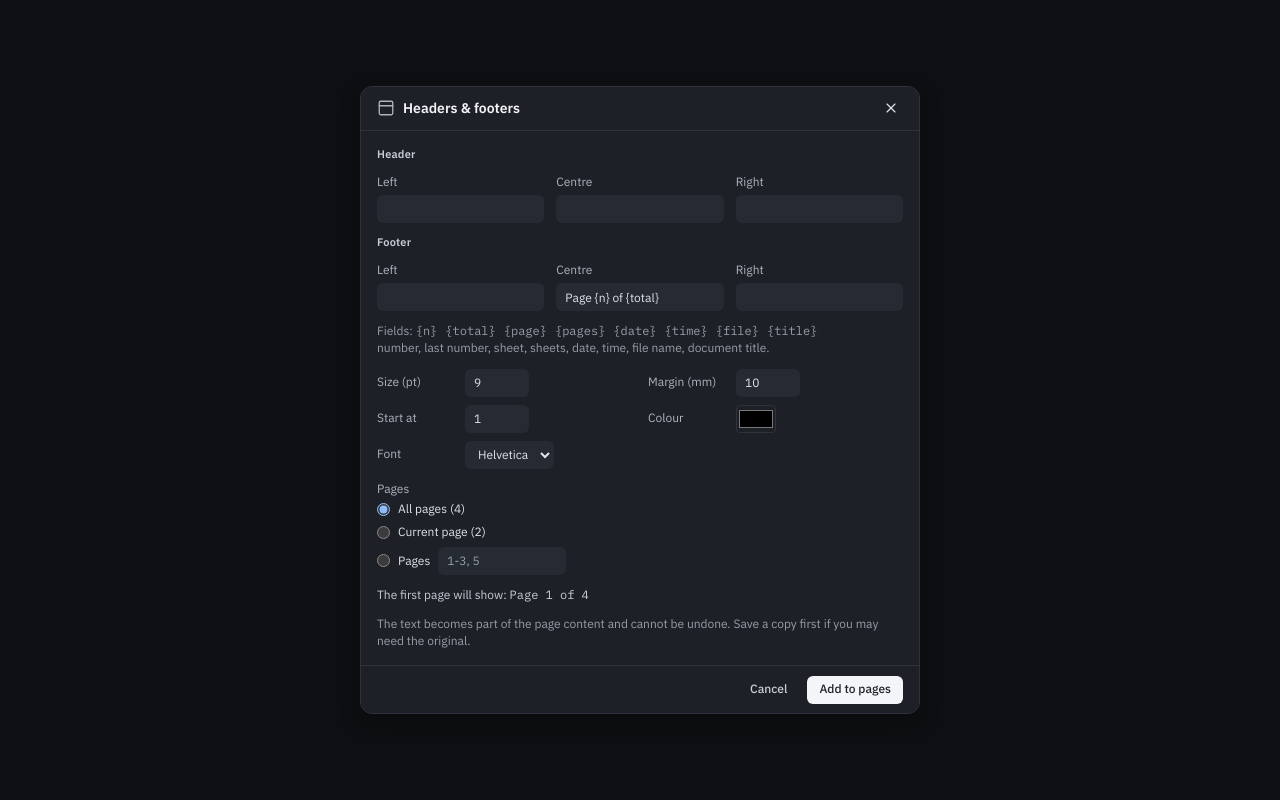
Test: Diálogos de Headers & Footers, Replace Pages y Split Document (ADR-0114) › Headers & Footers: una lista de páginas no válida o un tamaño fuera de rango lo explican
Step 1. Click the radio button with test id "hf-scope-range" → [384, 561], box [377,554,390,568]
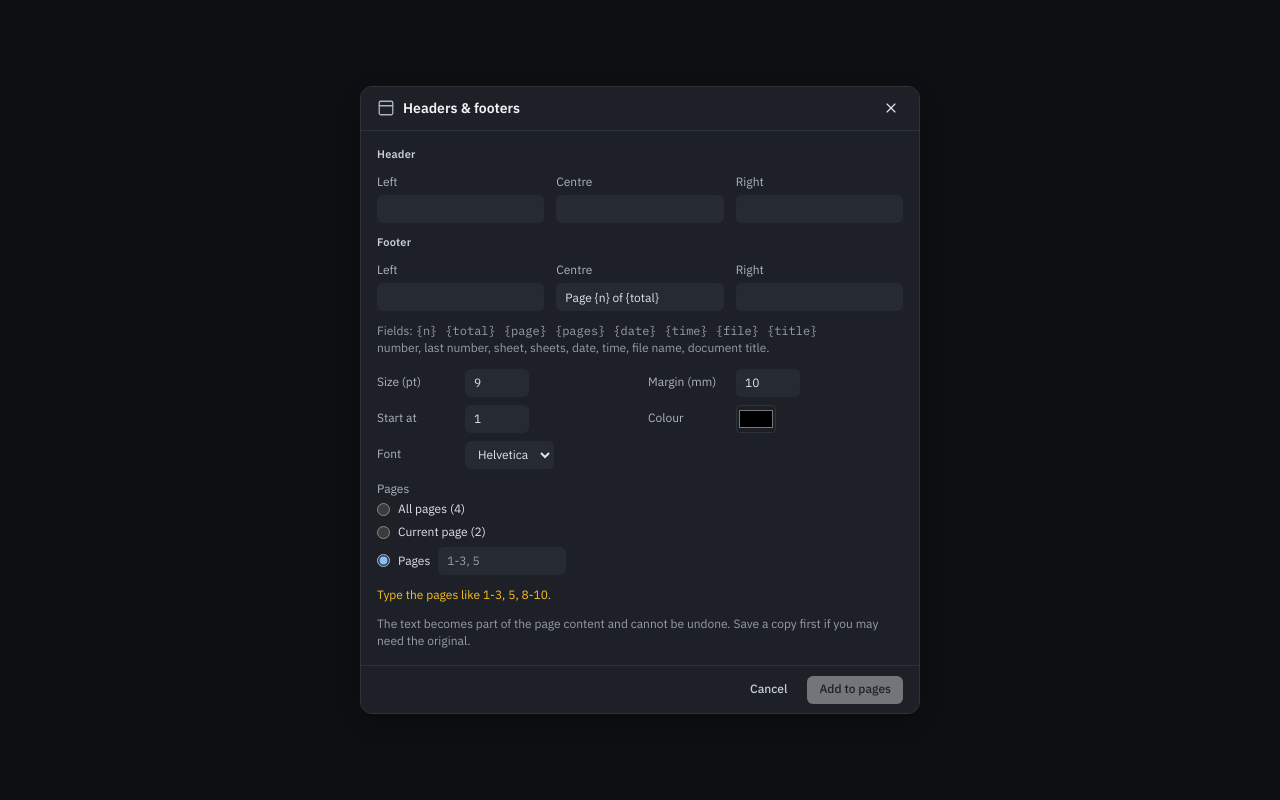
Step 2. Type "7-9" into the field with test id "hf-range" → [502, 561], box [438,547,566,575]
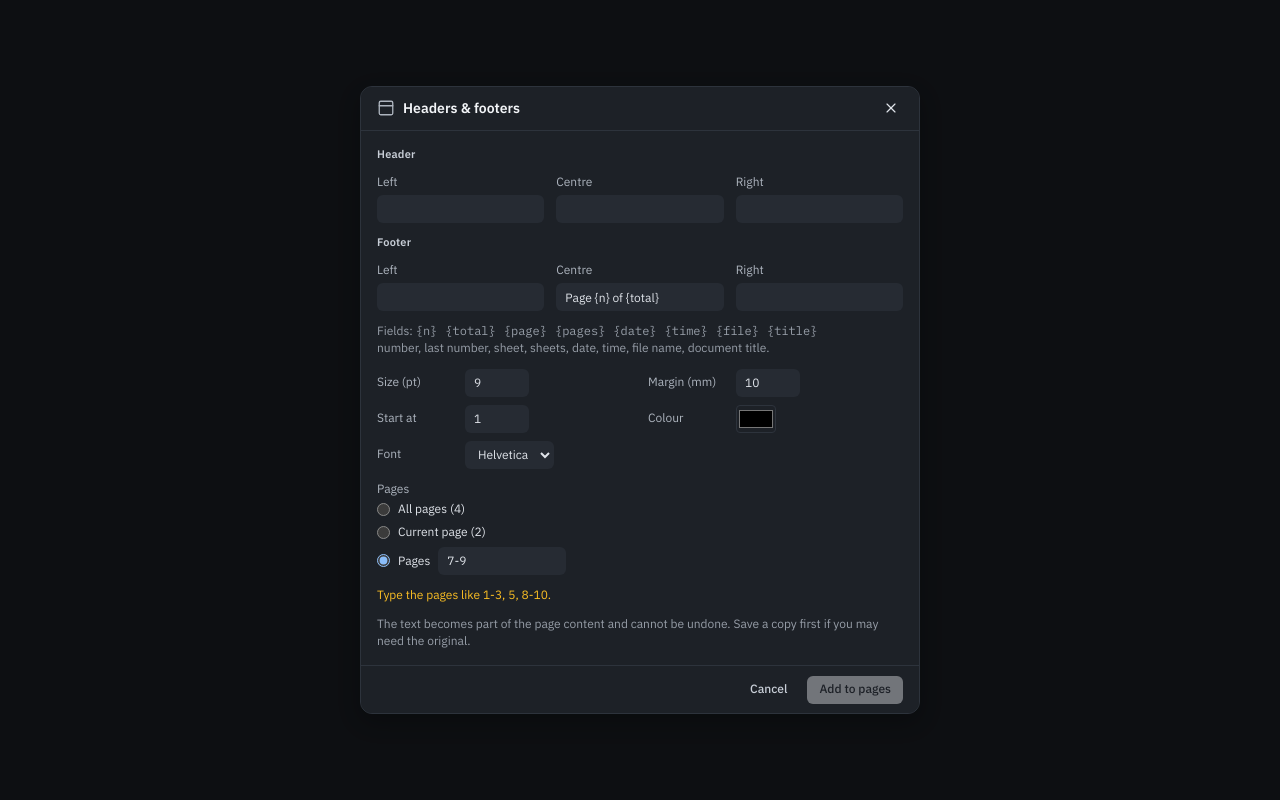
Expected: the text with test id "hf-problem" reads "Type the pages like 1-3, 5, 8-10.", [377,587,551,602]
Step 3. Replace the text in the field with test id "hf-range" with "1" → [502, 561], box [438,547,566,575]
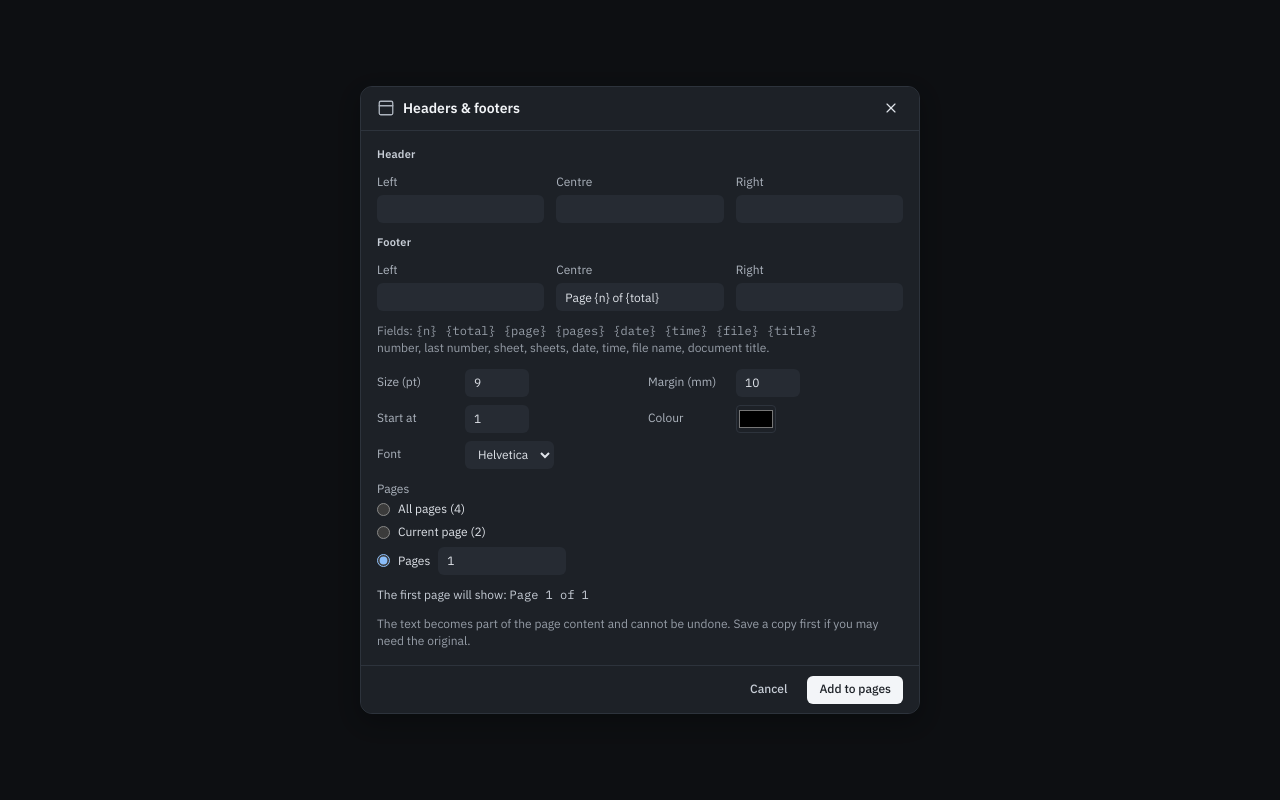
Step 4. Replace the text in the number field with test id "hf-size" with "90" → [497, 383], box [465,369,529,397]
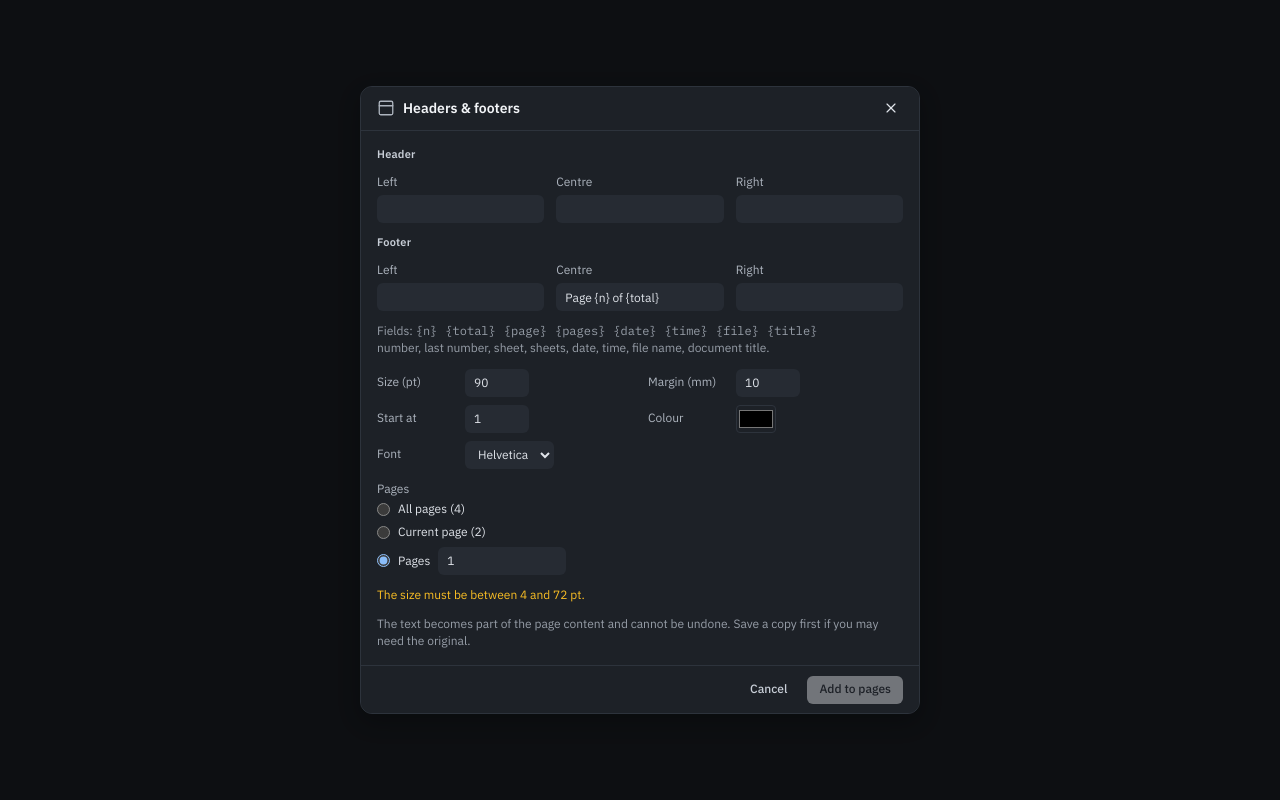
Expected: the text with test id "hf-problem" shows "between 4 and 72", [377,587,585,602]
